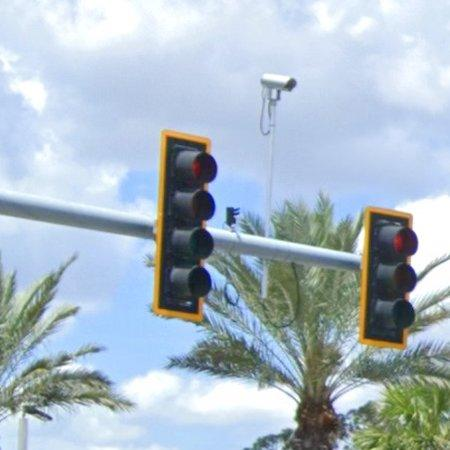traffic lights: (154, 130, 218, 323)
